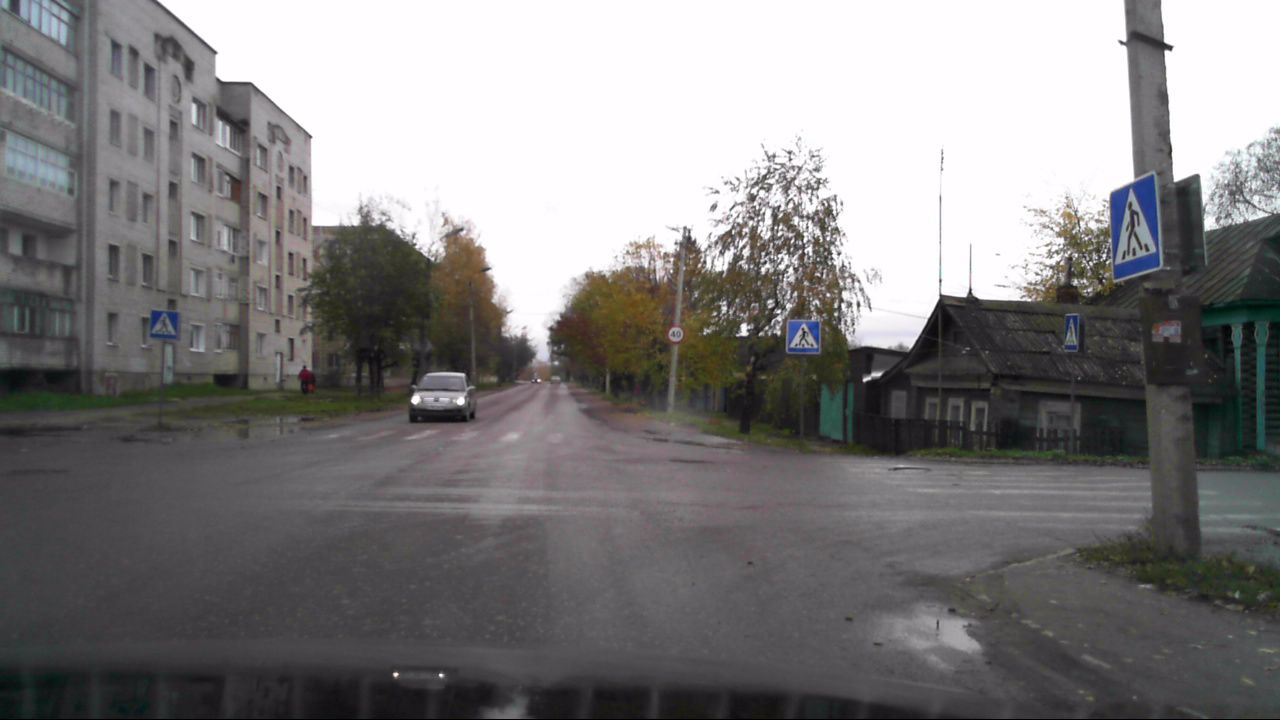speed_warning_40: (667, 324, 685, 343)
